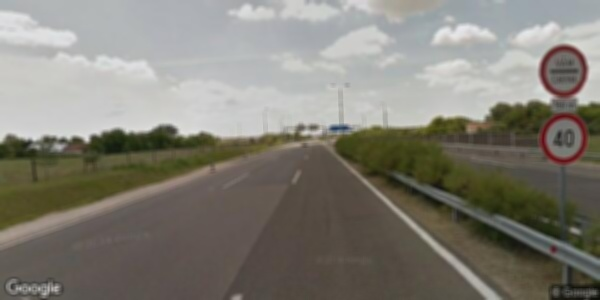b_speed_limit: (539, 112, 587, 165)
f_others: (539, 43, 588, 97)
